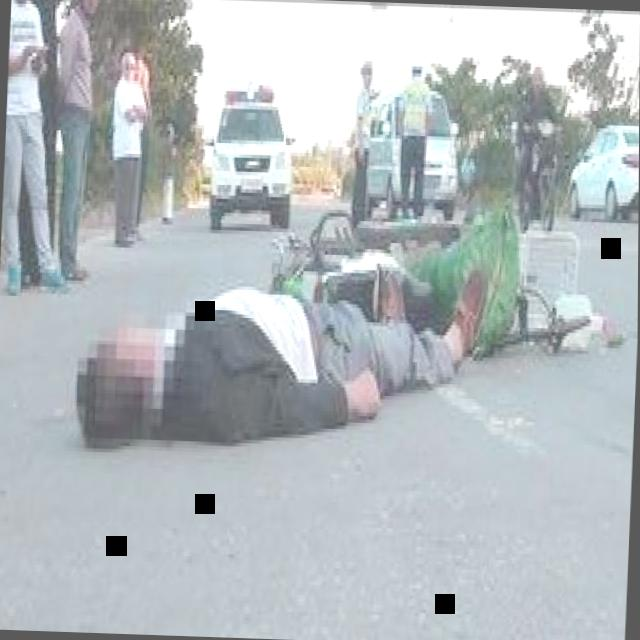Fall-Detected: (58, 224, 504, 462)
